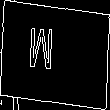M_S: (42, 28, 68, 82)
